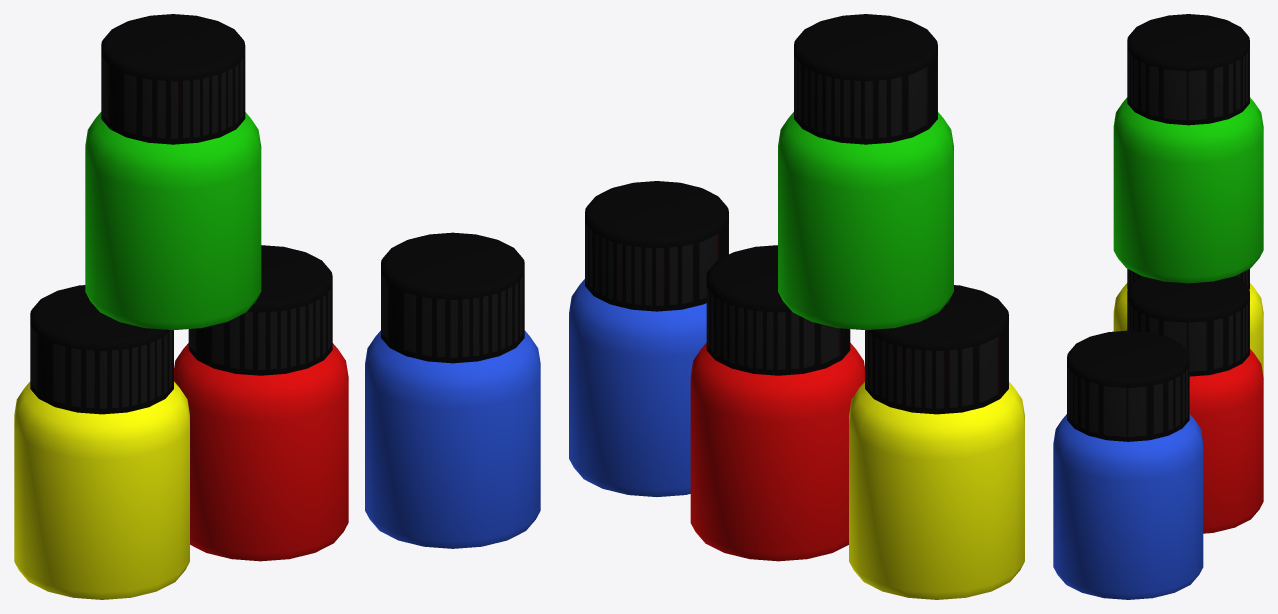
Rendered from Paintings.FBX.
The picture shows the model from 3 angles, left to right: view 1: azimuth 30°, elevation 25°; view 2: azimuth 150°, elevation 25°; view 3: azimuth 270°, elevation 25°; orthographic projection. The views are drawn at different scales.
Visible parts, largest first — view 1: painting 4, painting 3, painting 1, painting 2; view 2: painting 4, painting 1, painting 2, painting 3; view 3: painting 4, painting 3, painting 2, painting 1.
Boxes of the visible parts, box(x1,y1,x2,y2) form: painting 4: box(85, 14, 261, 330); painting 3: box(365, 232, 540, 548); painting 1: box(14, 285, 189, 599); painting 2: box(174, 245, 348, 561); painting 4: box(778, 14, 953, 330); painting 1: box(849, 285, 1024, 599); painting 2: box(690, 245, 864, 561); painting 3: box(569, 181, 728, 496); painting 4: box(1113, 14, 1263, 283); painting 3: box(1053, 330, 1203, 599); painting 2: box(1127, 276, 1263, 533); painting 1: box(1113, 269, 1263, 376).
Size of the model in its own units: 17.56 by 18.03 by 7.98.
1 material, 1 textured.
